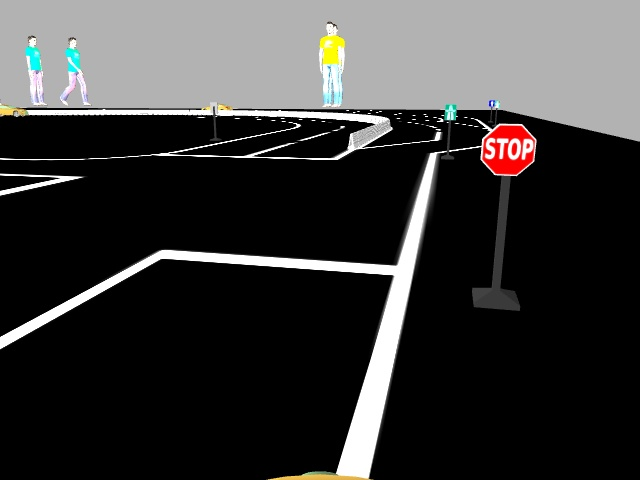Stop: (479, 124, 535, 174)
